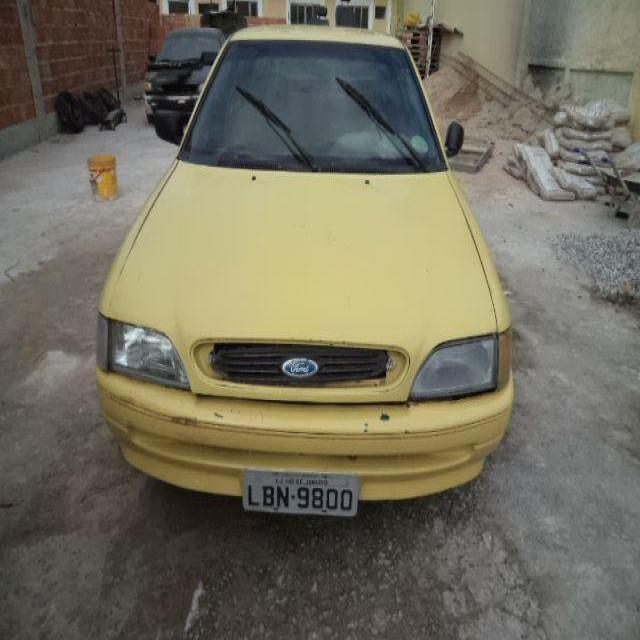Placa: (240, 468, 362, 520)
